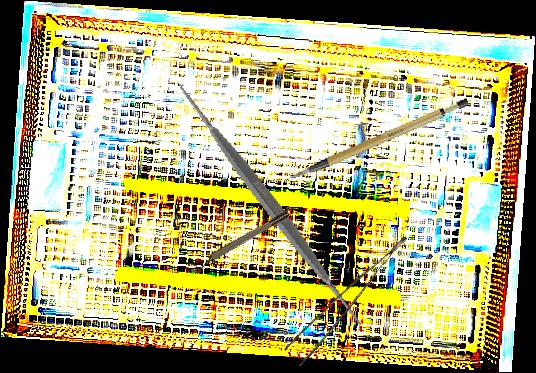Fixation Ring: (187, 208, 294, 277)
Scalpel Handle: (280, 95, 476, 181)
Spatula Surgical: (133, 69, 408, 343)
Tissue Forceps: (278, 236, 426, 367)
